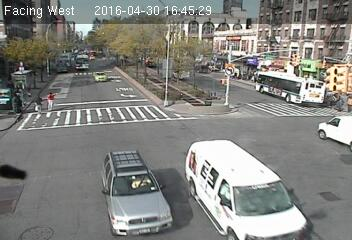neg: (111, 172, 142, 214), (207, 128, 233, 162), (257, 46, 278, 74), (222, 57, 234, 73), (42, 62, 51, 74), (113, 49, 120, 59), (37, 74, 44, 84), (254, 76, 259, 82)
